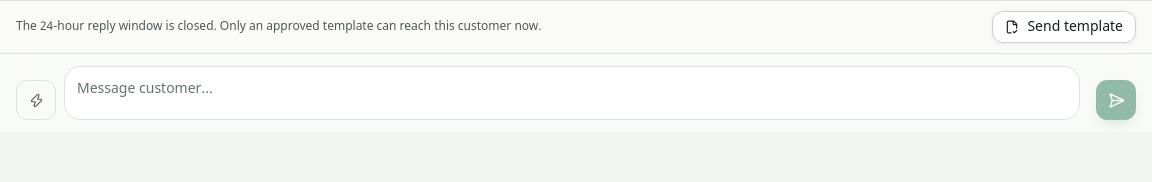
Test case: Composer send-template fallback › offers only templates Meta has approved once the window is shut
The width and height of the screenshot is (1152, 182).
Click the button "Send template" at (1064, 27), box top-left (992, 11), bottom-right (1136, 43)
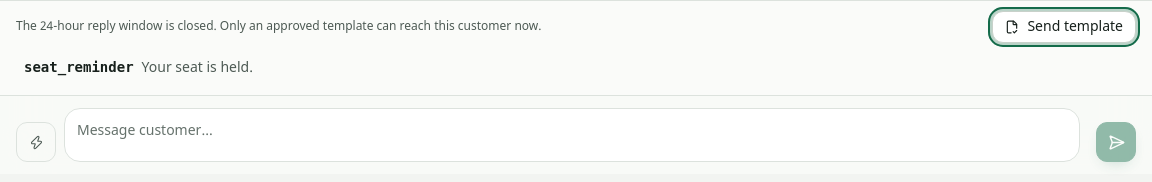
expect the text "seat_reminder" is shown: met, box top-left (24, 59), bottom-right (134, 75)
